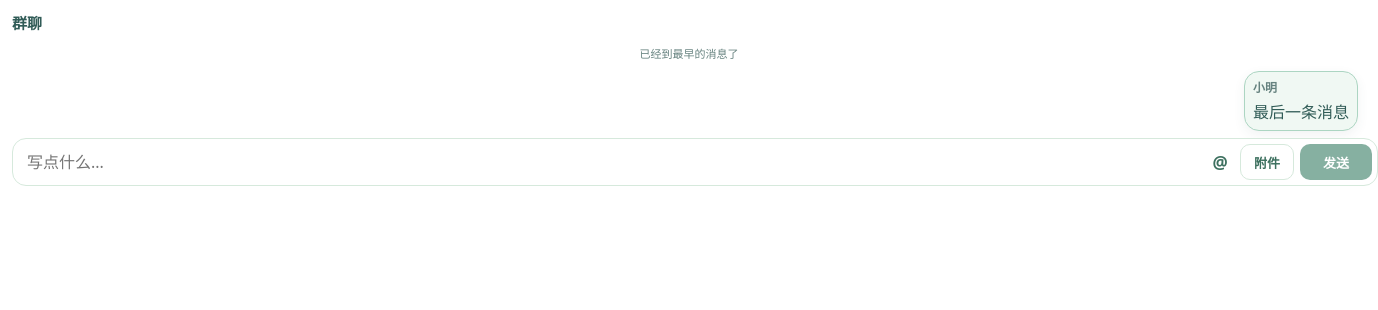
Test: ChatPanel 底部位置恢复 › 查看历史消息时的新消息使用向下提示，并在消息进入可视区后消失
Step 1. Click the button with class "chat-mention-button" → point(1220, 162), box x1=1206 y1=144 x2=1234 y2=180
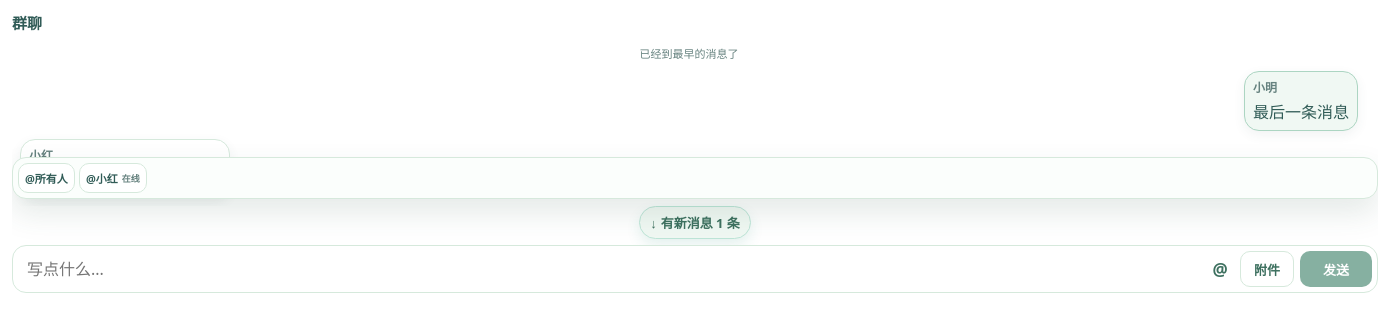
Expected: the element with class "chat-list" is shown, x1=12 y1=43 x2=1377 y2=206
Now the button with class "chat-new-message-pill" reads "↓ 有新消息 1 条", box x1=639 y1=206 x2=751 y2=239
Now the element showing "小红 历史阅读期间收到的新消息" is shown, box x1=20 y1=139 x2=230 y2=199
